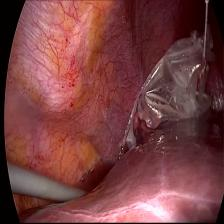Specimen Bag: (115, 12, 217, 158)
